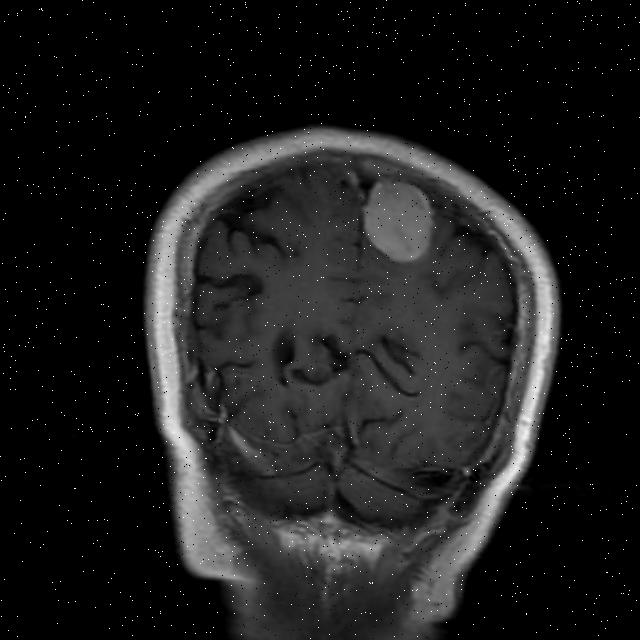Meningioma: (358, 175, 437, 268)
